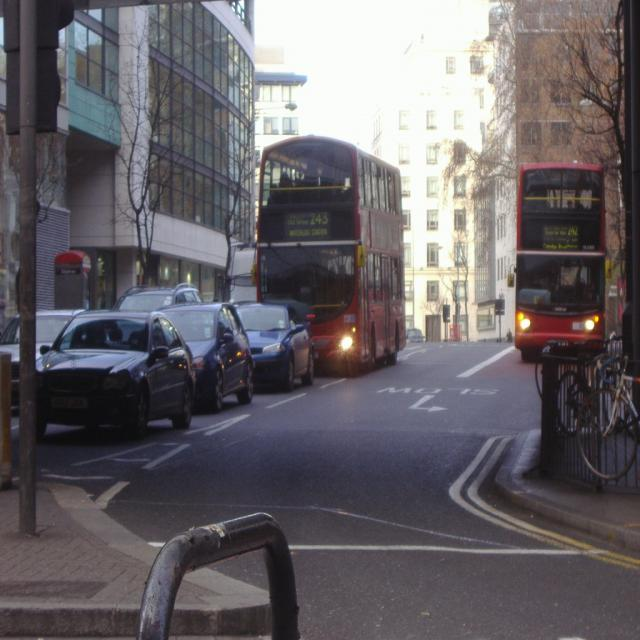other: (18, 310, 206, 450), (0, 301, 95, 402), (169, 304, 254, 408), (234, 302, 318, 385), (118, 283, 205, 317), (407, 328, 425, 342)
